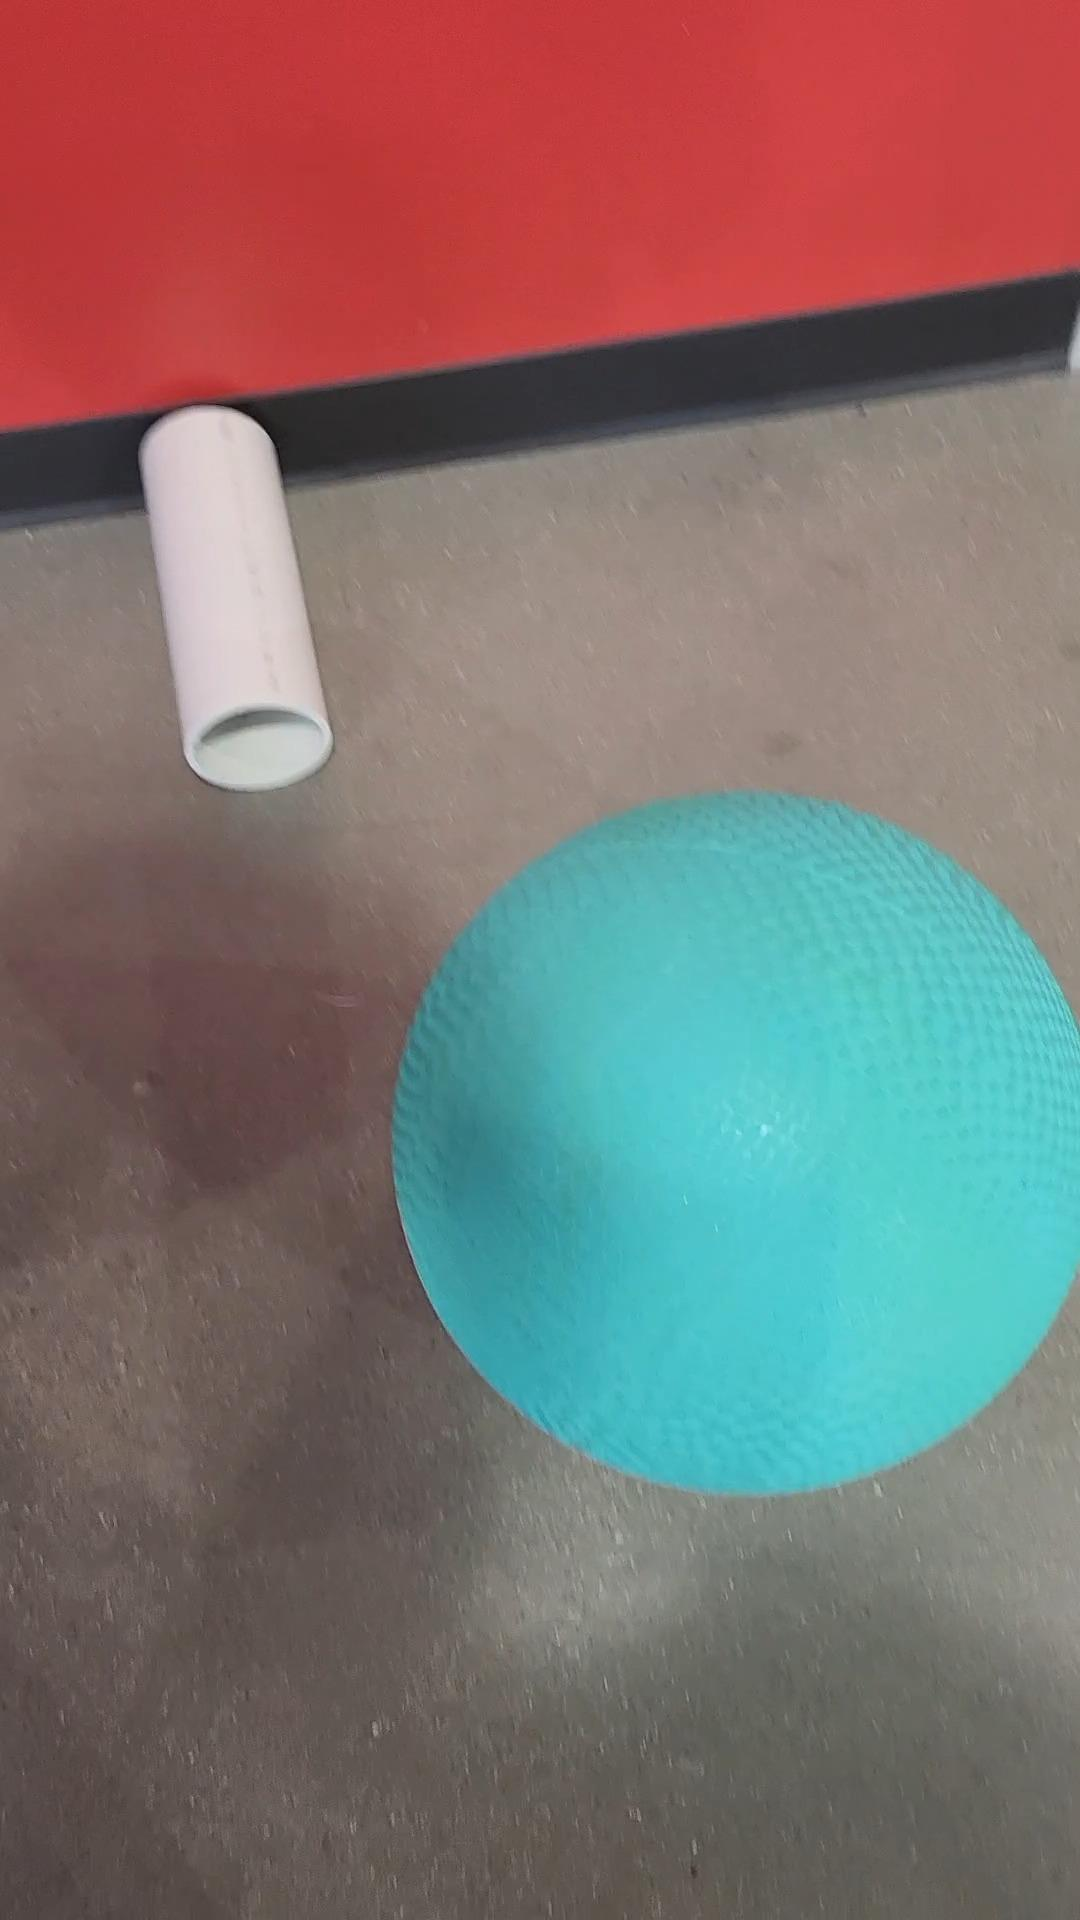algae: (378, 771, 1079, 1520)
coral: (111, 411, 359, 820)
